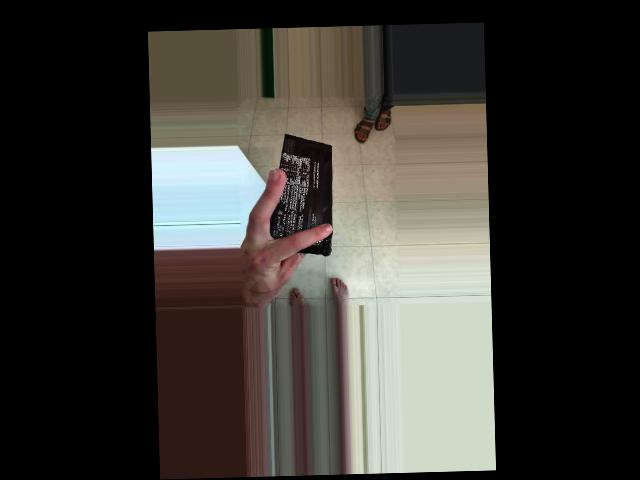chocolate: (272, 151, 402, 230)
